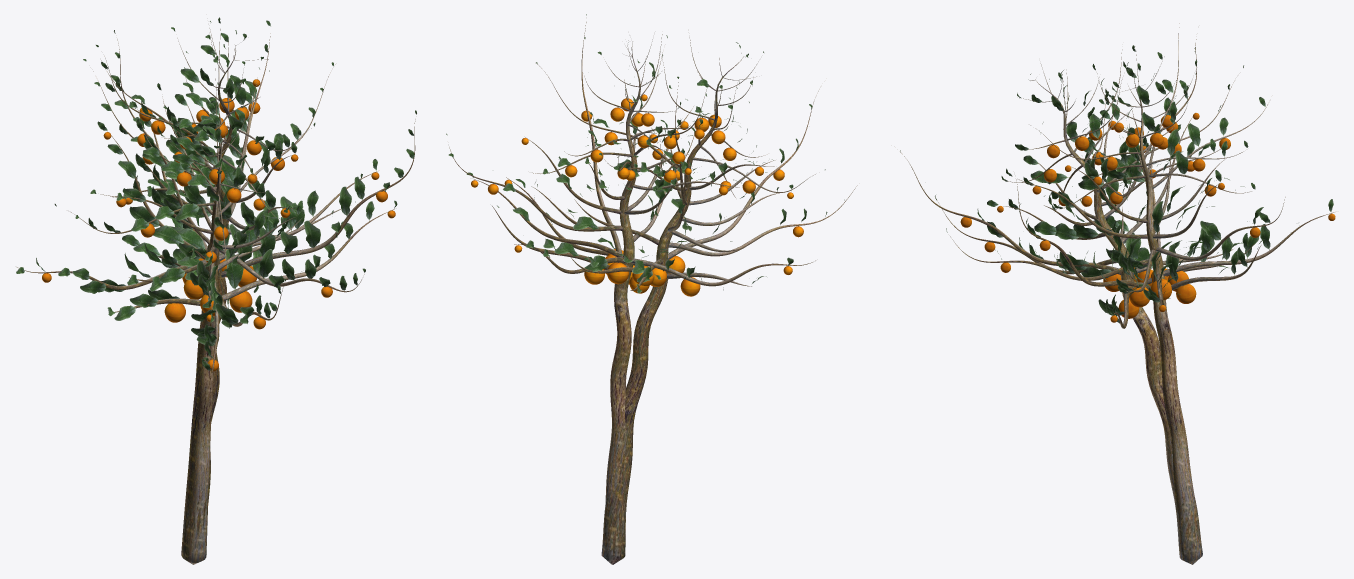
Rendered from orange-tree.glb.
3 views of the same model, side by side, from view 1: azimuth 30°, elevation 25°; view 2: azimuth 150°, elevation 25°; view 3: azimuth 270°, elevation 25° (orthographic). The views are drawn at different scales.
Parts seen in each view (by area): view 1: GeometryNode_24, GeometryNode_6, GeometryNode_42; view 2: GeometryNode_6, GeometryNode_42, GeometryNode_24; view 3: GeometryNode_6, GeometryNode_24, GeometryNode_42.
Boxes of the visible parts, x1=… form: GeometryNode_24: x1=16, y1=17, x2=416, y2=370; GeometryNode_6: x1=17, y1=28, x2=415, y2=564; GeometryNode_42: x1=42, y1=79, x2=395, y2=371; GeometryNode_6: x1=449, y1=22, x2=857, y2=564; GeometryNode_42: x1=471, y1=94, x2=803, y2=296; GeometryNode_24: x1=446, y1=14, x2=844, y2=293; GeometryNode_6: x1=900, y1=23, x2=1334, y2=564; GeometryNode_24: x1=900, y1=45, x2=1333, y2=323; GeometryNode_42: x1=960, y1=113, x2=1335, y2=322.
Size of the model in its own units: 8.97 by 12.83 by 10.17.
Materials: 3 (3 with a texture image).
